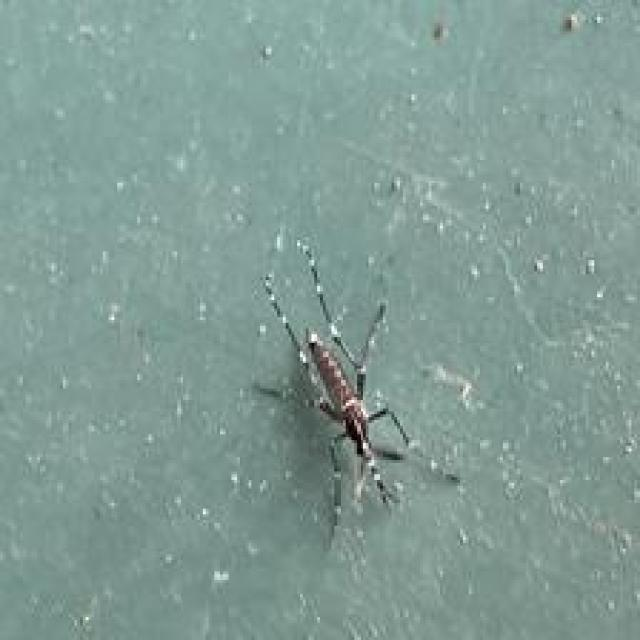Aedes albopictus: (251, 240, 460, 543)
